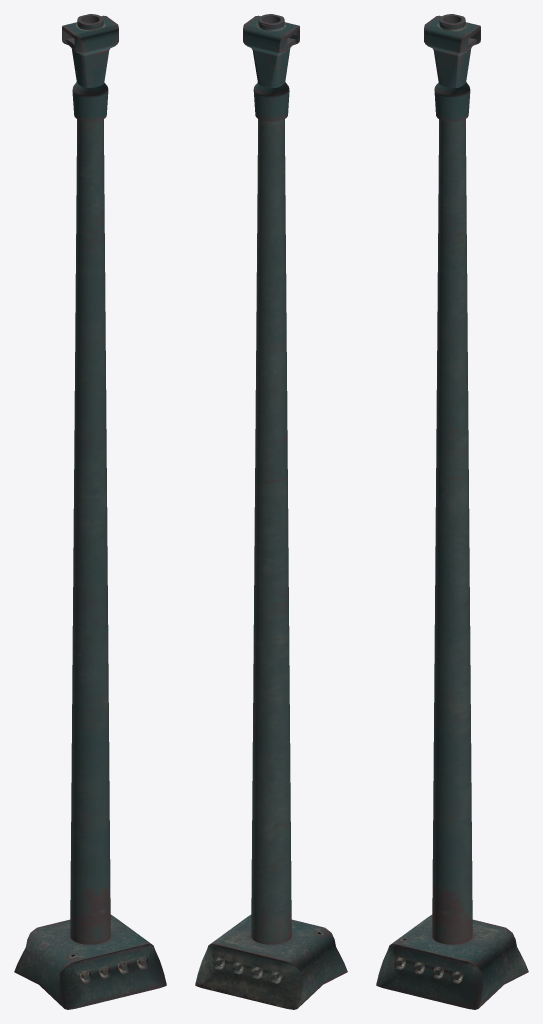
File: Gun_09.glb
3 views of the same model, side by side, from view 1: azimuth 30°, elevation 25°; view 2: azimuth 150°, elevation 25°; view 3: azimuth 330°, elevation 25° (orthographic).
Visible parts, largest first — view 1: set_0_group_0; view 2: set_0_group_0; view 3: set_0_group_0.
Boxes of the visible parts, box(x1,y1,x2,y2) form: set_0_group_0: box(14, 14, 166, 1009); set_0_group_0: box(195, 14, 347, 1009); set_0_group_0: box(376, 14, 528, 1009).
Bounding box in the file's own units: 0.6379 × 5.65 × 0.5822.
1 material, 1 textured.
